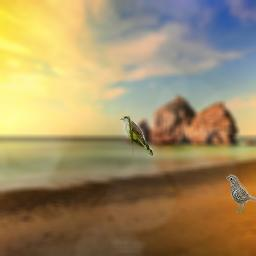Cuckoo: (120, 116, 153, 156)
Sparrow: (226, 174, 256, 214)
